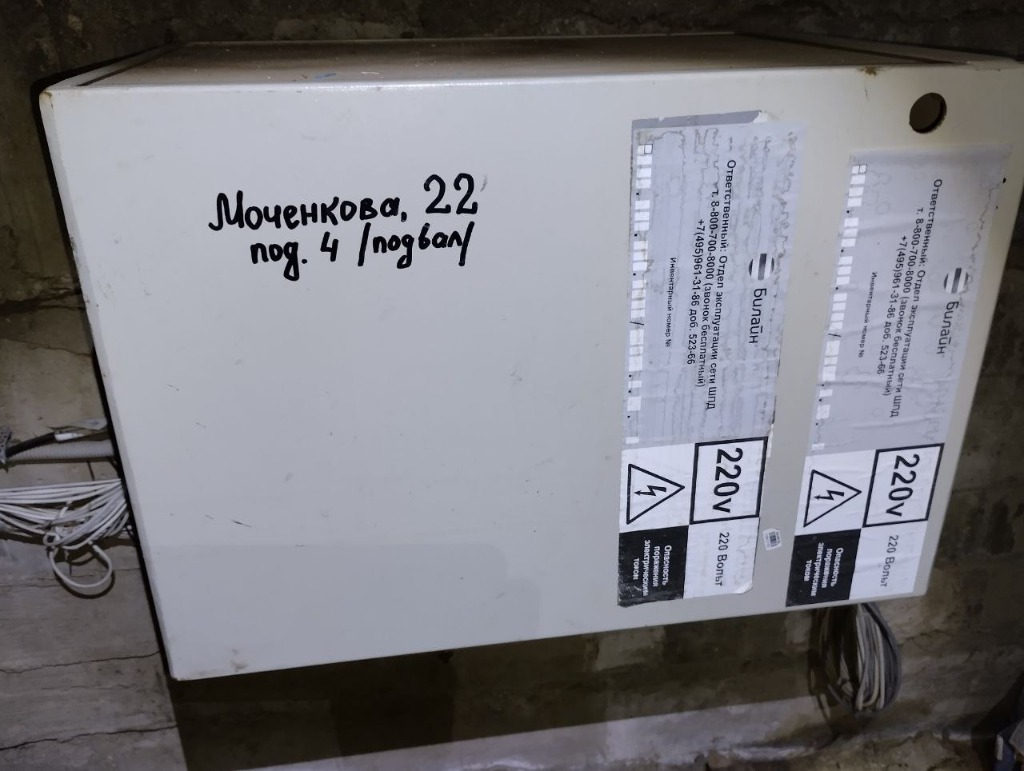sv-5: (25, 31, 1017, 694)
